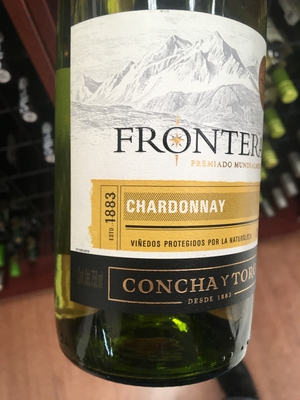frontera chardonnay: (56, 6, 282, 383)
